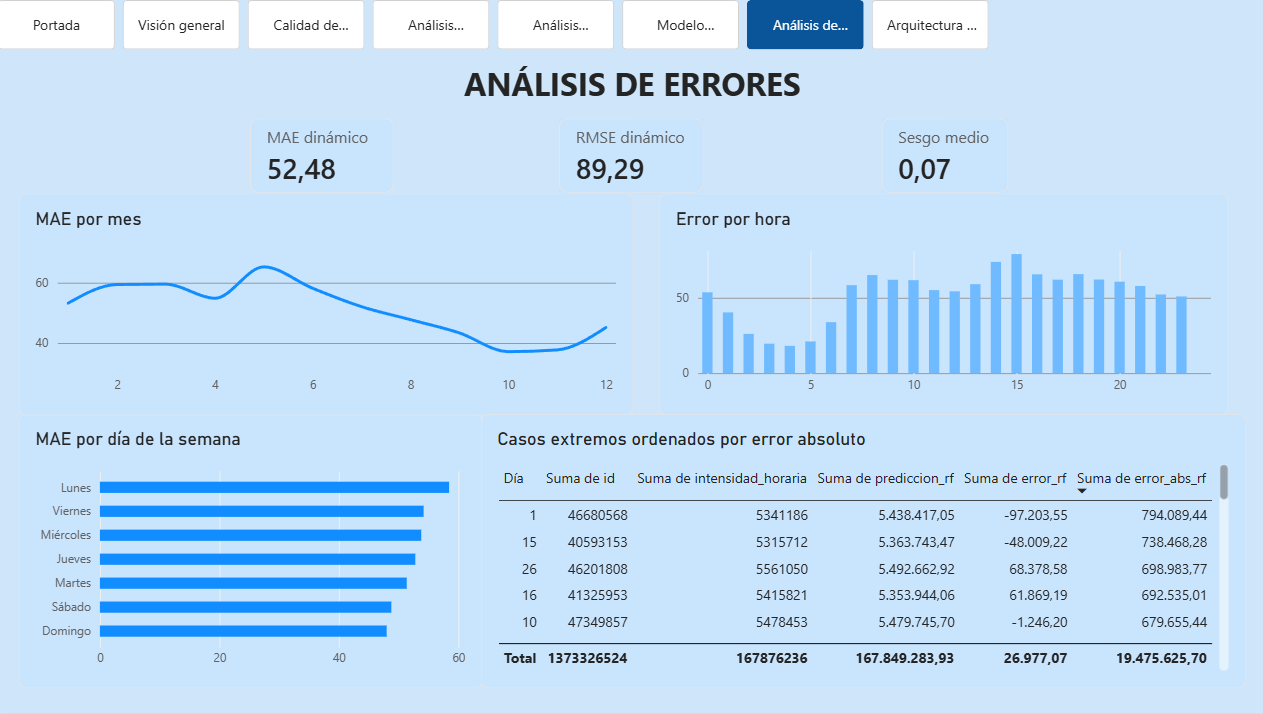

This screenshot's page, from the dashboard's own definition file:
{"tool":"powerbi","page":{"name":"Análisis de errores","canvas":[1280,720],"ordinal":6},"visuals":[{"type":"pageNavigator","box":[0,0,1000,50],"z":0},{"type":"clusteredColumnChart","title":"Error por hora","fields":{"Category":["predicciones_powerbi.hora"],"Y":["predicciones_powerbi.MAE dinámico"]},"box":[667.6,194.6,573.7,223.7],"z":1000},{"type":"clusteredBarChart","title":"MAE por día de la semana","fields":{"Category":["predicciones_powerbi.Día nombre"],"Y":["predicciones_powerbi.MAE dinámico"]},"box":[20.5,418.3,467.8,276.6],"z":2000},{"type":"textbox","box":[0,61.5,1280.6,46.1],"z":3000},{"type":"lineChart","title":"MAE por mes","fields":{"Category":["predicciones_powerbi.mes"],"Y":["predicciones_powerbi.MAE dinámico"]},"box":[20.5,194.6,619.8,223.7],"z":4000},{"type":"tableEx","title":"Casos extremos ordenados por error absoluto","fields":{"Values":["predicciones_powerbi.fecha.Variación.Jerarquía de fechas.Día","Sum(predicciones_powerbi.id)","Sum(predicciones_powerbi.intensidad_horaria)","Sum(predicciones_powerbi.prediccion_rf)","Sum(predicciones_powerbi.error_rf)","Sum(predicciones_powerbi.error_abs_rf)"]},"box":[488.3,418.3,771.8,276.6],"z":5000},{"type":"cardVisual","fields":{"Data":["predicciones_powerbi.MAE dinámico"]},"box":[254.4,119.5,145.1,75.1],"z":6000},{"type":"cardVisual","fields":{"Data":["predicciones_powerbi.RMSE dinámico"]},"box":[566.9,119.5,146.8,75.1],"z":7000},{"type":"cardVisual","fields":{"Data":["predicciones_powerbi.Sesgo medio"]},"box":[891.3,119.5,128.1,75.1],"z":8000}]}

Visuals, with their boxes on the page's 1280x720 design canvas (x1, y1, x2, y2). These are canvas units, not pixel positions in the 1263x714 screenshot, which may show the page scaled, cropped or inside an application window:
pageNavigator: <box>0,0,1000,50</box>
"Error por hora" clusteredColumnChart: <box>668,195,1241,418</box>
"MAE por día de la semana" clusteredBarChart: <box>20,418,488,695</box>
textbox: <box>0,62,1281,108</box>
"MAE por mes" lineChart: <box>20,195,640,418</box>
"Casos extremos ordenados por error absoluto" tableEx: <box>488,418,1260,695</box>
cardVisual - predicciones_powerbi.MAE dinámico: <box>254,120,400,195</box>
cardVisual - predicciones_powerbi.RMSE dinámico: <box>567,120,714,195</box>
cardVisual - predicciones_powerbi.Sesgo medio: <box>891,120,1019,195</box>
